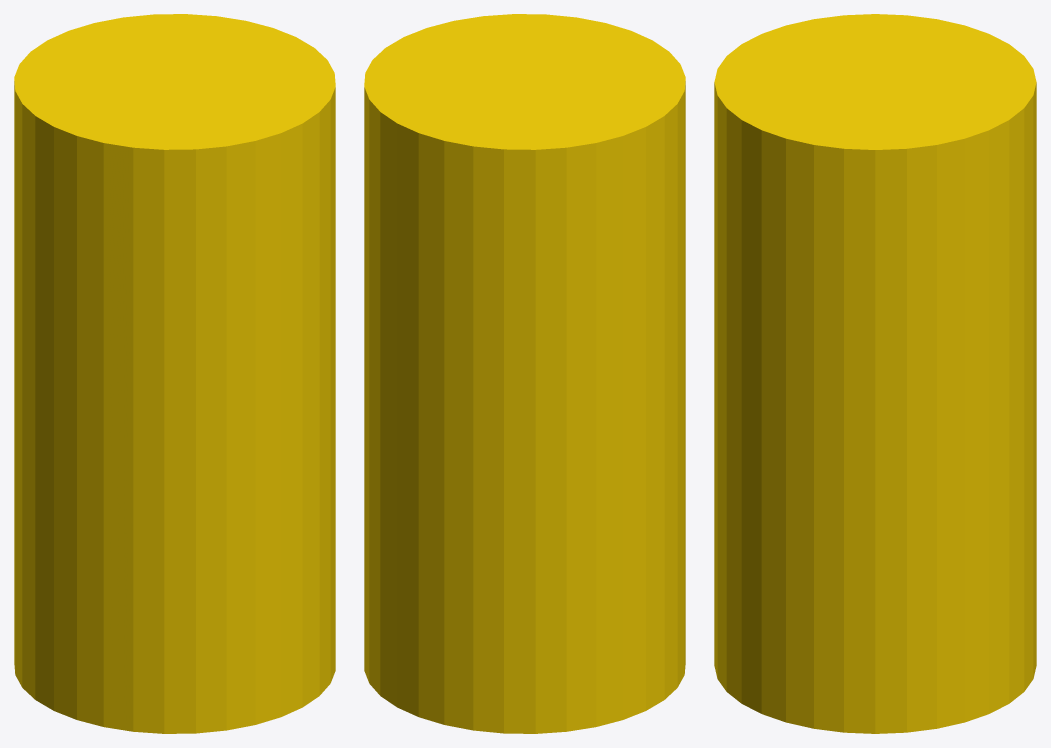
Rendered from Pickup_1.obj.
3 renders of one model, left to right at view 1: azimuth 30°, elevation 25°; view 2: azimuth 150°, elevation 25°; view 3: azimuth 270°, elevation 25°, orthographic.
Parts seen in each view (by area): view 1: Cylinder; view 2: Cylinder; view 3: Cylinder.
Boxes of the visible parts, left/top/right/bottom form: Cylinder: left=14, top=14, right=335, bottom=733; Cylinder: left=364, top=14, right=685, bottom=733; Cylinder: left=714, top=14, right=1036, bottom=733.
Bounding box in the file's own units: 2 × 4 × 2.
1 material, 1 textured.
